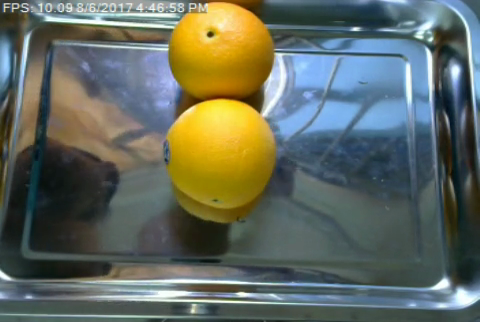Orange: (160, 98, 277, 210), (167, 0, 275, 100)
